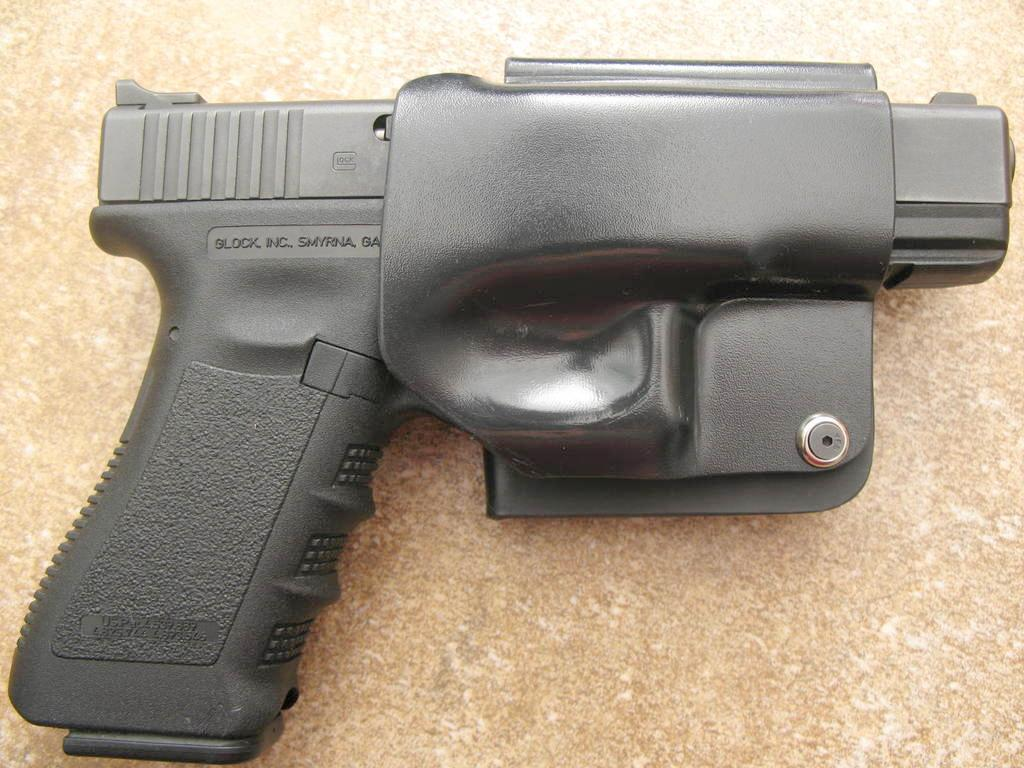gun: (18, 78, 1012, 768)
